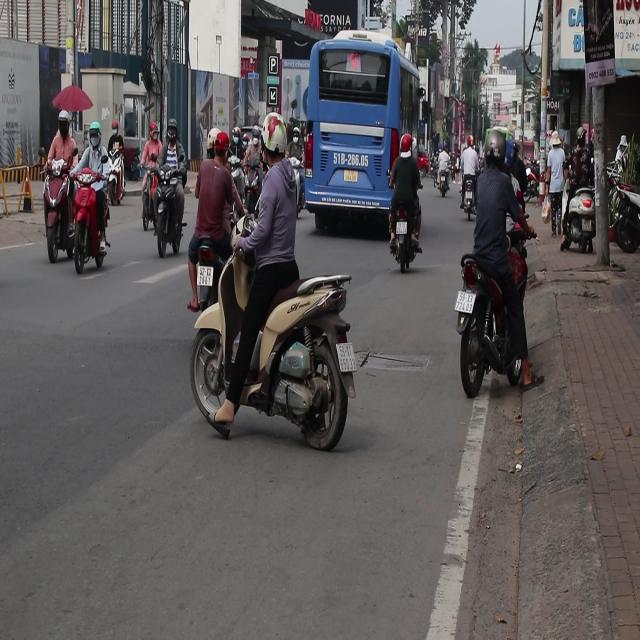bus: (300, 32, 424, 236)
motorbike: (190, 256, 364, 451), (444, 249, 534, 395), (69, 144, 117, 274), (42, 161, 75, 266), (386, 206, 428, 280), (152, 176, 186, 258), (134, 159, 158, 227), (104, 154, 130, 203), (224, 144, 246, 198), (244, 158, 262, 203), (431, 164, 454, 197), (466, 178, 480, 224)
